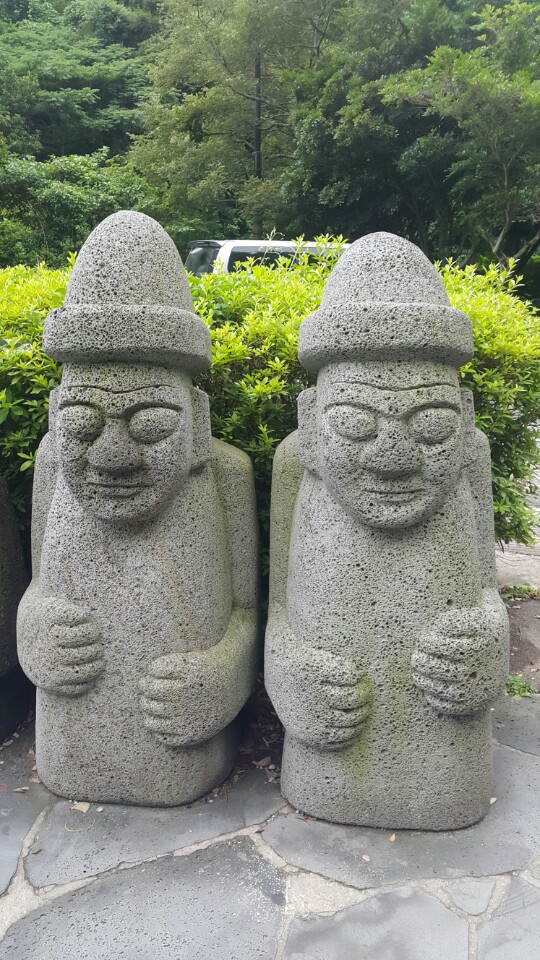Stone Statue: (251, 220, 523, 842), (12, 191, 260, 820)
